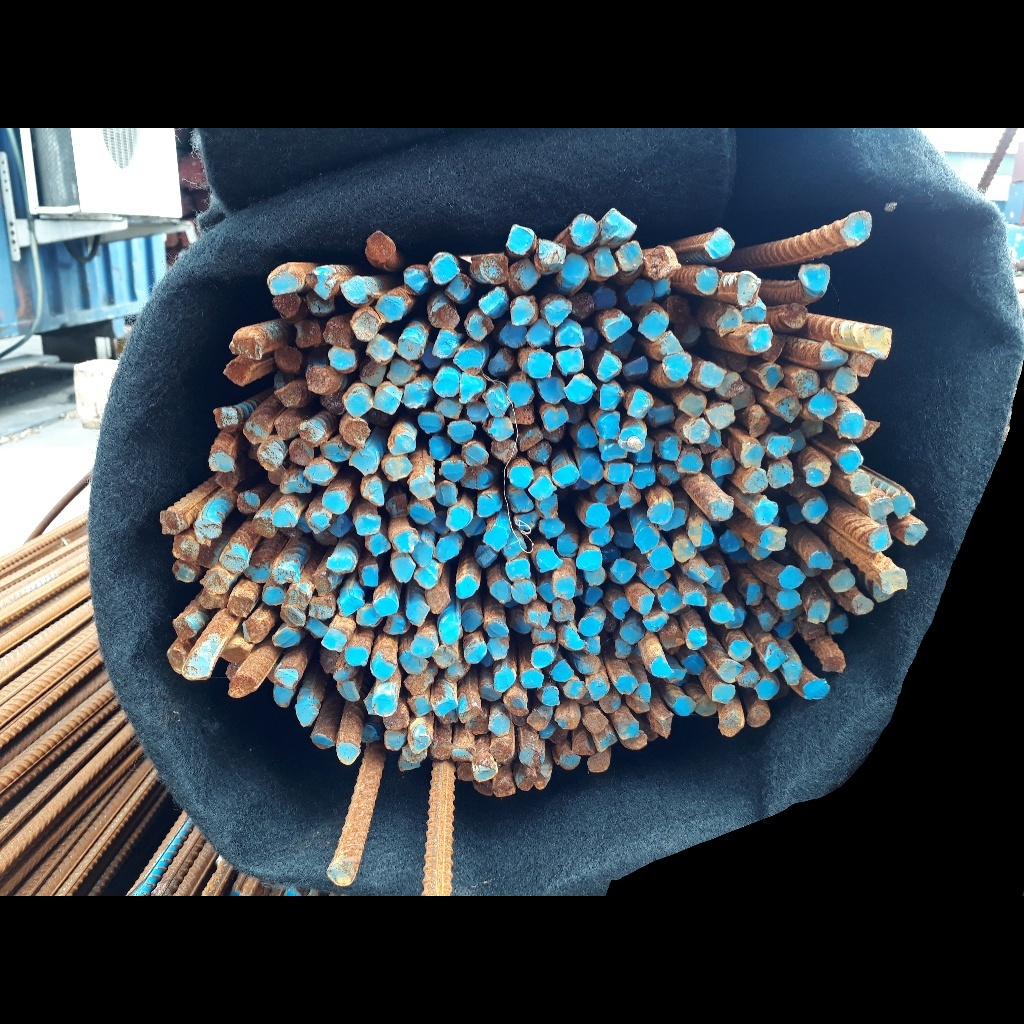dipstick: (599, 208, 637, 244), (644, 246, 681, 280), (505, 259, 541, 293), (476, 253, 511, 286), (864, 324, 893, 363), (638, 306, 669, 342), (557, 252, 589, 286), (365, 231, 397, 265), (568, 214, 599, 249), (482, 384, 513, 419), (230, 330, 263, 362), (350, 310, 383, 341), (339, 275, 373, 305), (504, 225, 536, 256), (455, 344, 486, 376), (365, 333, 396, 365), (432, 365, 463, 396), (703, 229, 736, 258), (430, 251, 459, 284), (267, 266, 302, 293), (508, 295, 538, 326), (479, 286, 510, 316), (309, 267, 339, 298), (592, 350, 621, 382), (523, 350, 555, 379), (798, 265, 831, 293), (844, 212, 874, 242), (593, 411, 623, 441), (809, 388, 838, 419), (340, 418, 371, 447), (322, 316, 353, 345), (346, 448, 378, 476), (483, 415, 516, 442), (342, 390, 375, 417), (536, 238, 566, 267), (432, 328, 461, 358), (306, 365, 335, 395), (173, 534, 201, 565), (600, 313, 632, 340), (273, 381, 305, 408), (220, 544, 249, 573), (614, 242, 644, 270), (624, 390, 654, 418), (538, 376, 568, 404), (464, 312, 494, 340), (424, 585, 454, 613), (373, 383, 401, 413), (225, 358, 253, 388), (193, 518, 221, 548), (735, 271, 762, 302), (555, 348, 586, 375), (402, 268, 433, 295), (377, 294, 408, 321), (273, 345, 304, 372), (676, 392, 708, 418), (836, 411, 865, 439), (564, 375, 593, 403), (543, 298, 572, 326), (387, 358, 416, 386), (663, 354, 693, 381), (505, 381, 535, 408), (705, 403, 736, 429), (523, 319, 554, 345), (319, 627, 350, 653), (279, 468, 311, 493), (597, 384, 625, 412), (655, 432, 682, 461), (444, 273, 471, 302), (294, 320, 323, 347), (256, 441, 283, 470), (779, 304, 809, 330), (578, 455, 604, 485), (297, 421, 327, 447), (828, 368, 859, 393), (593, 245, 618, 276), (683, 558, 714, 583), (428, 303, 459, 328), (747, 406, 771, 438), (774, 395, 802, 422), (457, 696, 484, 724), (181, 654, 209, 681), (740, 295, 766, 324), (656, 587, 685, 613), (293, 699, 319, 728), (756, 365, 786, 390), (714, 373, 744, 398), (674, 449, 704, 474), (201, 570, 231, 595), (816, 344, 848, 367), (207, 448, 239, 471), (619, 426, 646, 453), (706, 496, 734, 522), (803, 676, 831, 702), (458, 373, 484, 401), (434, 535, 460, 563), (406, 725, 434, 751), (360, 359, 386, 387), (227, 674, 255, 700), (445, 506, 474, 531), (326, 550, 356, 574), (303, 461, 333, 485), (271, 416, 301, 440), (802, 498, 829, 524), (766, 462, 793, 488), (741, 466, 767, 493), (633, 526, 660, 552), (623, 354, 649, 381), (649, 711, 675, 738), (427, 433, 453, 460), (243, 618, 270, 644), (758, 526, 786, 551), (569, 291, 597, 316), (526, 476, 554, 501), (491, 437, 519, 462), (460, 441, 488, 466), (383, 703, 408, 731), (311, 570, 339, 595), (211, 406, 239, 431), (288, 440, 316, 465), (740, 441, 764, 470), (762, 643, 786, 672), (540, 407, 569, 431), (353, 512, 382, 536), (574, 548, 604, 571), (336, 592, 366, 615), (321, 489, 351, 512), (271, 625, 301, 648), (795, 372, 821, 398), (483, 525, 509, 551), (409, 475, 435, 501), (243, 420, 269, 446), (748, 325, 773, 352), (694, 267, 719, 294), (729, 383, 756, 408), (709, 451, 736, 476), (717, 712, 744, 737), (629, 590, 656, 615), (491, 665, 518, 690), (501, 531, 526, 558), (436, 615, 461, 642), (409, 500, 436, 525), (328, 345, 355, 370), (247, 557, 274, 582), (655, 333, 683, 357), (511, 577, 535, 605), (335, 680, 363, 704), (308, 596, 336, 620), (646, 402, 675, 425), (555, 324, 584, 347), (499, 325, 528, 348), (383, 458, 412, 481), (321, 438, 350, 461), (638, 566, 671, 586), (446, 420, 476, 442), (273, 295, 303, 317), (433, 397, 464, 418), (305, 292, 336, 313), (849, 352, 874, 378), (779, 565, 804, 591), (716, 310, 742, 335), (739, 580, 764, 606), (648, 545, 674, 570), (553, 575, 579, 600), (527, 441, 553, 466), (488, 579, 514, 604), (393, 528, 419, 553), (272, 683, 298, 708), (626, 280, 653, 304), (697, 362, 724, 386), (752, 501, 779, 525), (683, 418, 710, 442), (745, 704, 772, 728), (583, 502, 610, 526), (558, 625, 582, 652), (505, 558, 532, 582), (361, 479, 385, 506), (880, 570, 908, 593), (828, 570, 856, 593), (506, 488, 534, 511), (605, 460, 634, 482), (599, 440, 629, 461), (870, 495, 895, 520), (889, 493, 914, 518), (666, 296, 691, 321), (583, 710, 608, 735), (464, 466, 489, 491), (428, 736, 453, 761), (336, 741, 361, 766), (228, 593, 253, 618), (574, 424, 598, 450), (488, 350, 514, 374), (459, 606, 483, 632), (370, 656, 396, 680), (407, 600, 431, 626), (397, 336, 423, 360), (158, 510, 184, 534), (716, 660, 743, 683), (709, 601, 736, 624), (611, 558, 638, 581), (504, 693, 531, 716), (416, 412, 443, 435), (326, 513, 353, 536), (319, 393, 346, 416), (235, 490, 262, 513), (673, 321, 701, 343), (654, 465, 683, 486), (807, 600, 831, 625), (661, 506, 685, 531), (619, 483, 643, 508), (619, 620, 644, 644), (506, 406, 536, 426), (486, 635, 510, 660), (433, 481, 458, 505), (357, 603, 381, 628), (805, 463, 831, 486), (646, 501, 672, 524), (631, 465, 657, 488), (659, 625, 685, 648), (535, 493, 558, 519), (403, 382, 426, 408), (574, 653, 601, 675), (407, 696, 434, 718), (409, 634, 436, 656), (807, 549, 835, 570), (783, 657, 804, 685), (201, 589, 229, 610), (283, 585, 311, 606), (533, 762, 553, 791), (869, 527, 893, 551), (821, 651, 845, 675), (705, 565, 730, 588), (551, 598, 576, 621), (511, 465, 534, 490), (534, 549, 559, 572), (463, 640, 486, 665), (344, 645, 369, 668), (590, 288, 616, 310), (553, 465, 579, 487), (328, 864, 354, 886), (391, 557, 413, 583), (591, 482, 618, 503), (364, 535, 392, 555), (223, 643, 251, 663), (838, 449, 861, 473), (719, 530, 743, 553), (754, 678, 778, 701), (729, 640, 753, 663), (673, 538, 696, 562), (685, 628, 709, 651), (557, 533, 581, 556), (524, 605, 548, 628), (526, 706, 549, 730), (476, 494, 499, 518), (373, 692, 396, 716), (253, 516, 276, 540), (768, 435, 793, 457), (518, 428, 543, 450), (511, 609, 533, 634), (455, 575, 477, 600), (411, 541, 433, 566), (391, 433, 416, 455), (359, 564, 381, 589), (279, 606, 304, 628), (670, 695, 696, 716), (579, 584, 605, 605), (585, 679, 611, 700), (515, 766, 536, 792), (441, 460, 467, 481), (372, 595, 398, 616), (387, 494, 408, 520), (273, 666, 299, 687), (776, 589, 803, 609), (621, 730, 648, 750), (166, 646, 186, 673), (798, 622, 826, 641), (688, 527, 716, 546), (400, 653, 428, 672), (273, 564, 301, 583), (904, 522, 927, 545), (851, 473, 874, 496), (648, 655, 671, 678), (551, 660, 574, 683), (467, 398, 490, 421), (518, 745, 543, 766), (171, 561, 196, 582), (577, 615, 603, 635), (539, 516, 565, 536), (531, 626, 557, 646), (485, 618, 511, 638), (383, 615, 409, 635), (735, 669, 762, 688), (726, 351, 749, 373), (756, 608, 778, 631), (616, 718, 639, 740), (826, 614, 850, 635), (711, 683, 735, 704), (694, 694, 718, 715), (610, 596, 631, 620), (539, 685, 563, 706), (400, 743, 428, 761), (405, 675, 429, 696), (748, 541, 773, 561), (613, 675, 638, 695), (414, 568, 439, 588), (261, 585, 286, 605), (563, 678, 585, 700), (490, 742, 513, 763), (599, 544, 623, 564), (487, 716, 511, 736), (431, 646, 455, 666), (271, 507, 295, 527), (214, 471, 238, 491), (174, 616, 194, 640), (681, 589, 709, 606), (471, 761, 499, 778), (871, 582, 896, 601), (558, 750, 583, 769), (581, 325, 599, 351), (800, 420, 823, 440), (643, 611, 666, 631), (586, 751, 609, 771), (591, 731, 614, 751), (383, 730, 406, 750), (682, 654, 706, 673), (635, 437, 654, 461), (521, 670, 545, 689), (491, 778, 515, 797), (304, 617, 328, 636), (589, 526, 614, 544), (538, 580, 556, 605), (512, 515, 540, 531), (625, 697, 651, 714), (584, 565, 605, 586), (701, 431, 723, 451), (532, 648, 554, 668), (422, 343, 441, 366), (434, 699, 458, 717), (478, 683, 503, 700), (786, 430, 806, 451), (573, 732, 593, 753), (444, 661, 465, 681), (564, 406, 586, 425), (599, 695, 622, 713), (634, 682, 654, 702), (311, 734, 336, 750), (788, 503, 806, 525), (776, 621, 798, 639), (307, 513, 329, 531), (451, 746, 474, 763), (613, 531, 634, 549), (614, 637, 632, 658), (728, 548, 753, 563), (653, 276, 671, 296), (266, 466, 286, 484), (728, 608, 745, 629), (361, 726, 382, 743), (666, 670, 689, 685), (398, 755, 421, 770), (580, 636, 600, 653), (543, 428, 564, 443), (333, 666, 354, 680), (538, 724, 556, 740), (466, 520, 484, 536), (364, 692, 376, 715), (782, 608, 802, 621)
